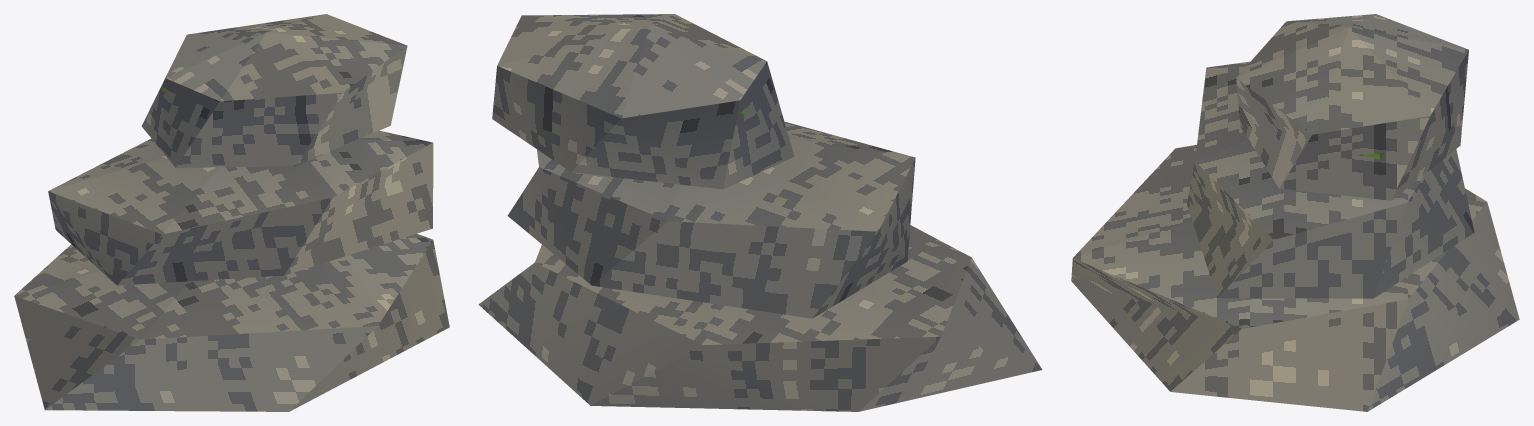
The model's file is mnat.rock__outcrop.glb.
The picture shows the model from 3 angles, left to right: view 1: azimuth 30°, elevation 25°; view 2: azimuth 150°, elevation 25°; view 3: azimuth 270°, elevation 25°; orthographic projection. The views are drawn at different scales.
Parts seen in each view (by area): view 1: kit_rock; view 2: kit_rock; view 3: kit_rock.
Part boxes in pixels (left/top/right/bottom): kit_rock: left=14, top=14, right=449, bottom=411; kit_rock: left=478, top=14, right=1042, bottom=411; kit_rock: left=1071, top=14, right=1519, bottom=411.
Size of the model in its own units: 3.09 by 2.1 by 2.48.
Materials: 2 (2 with a texture image).
